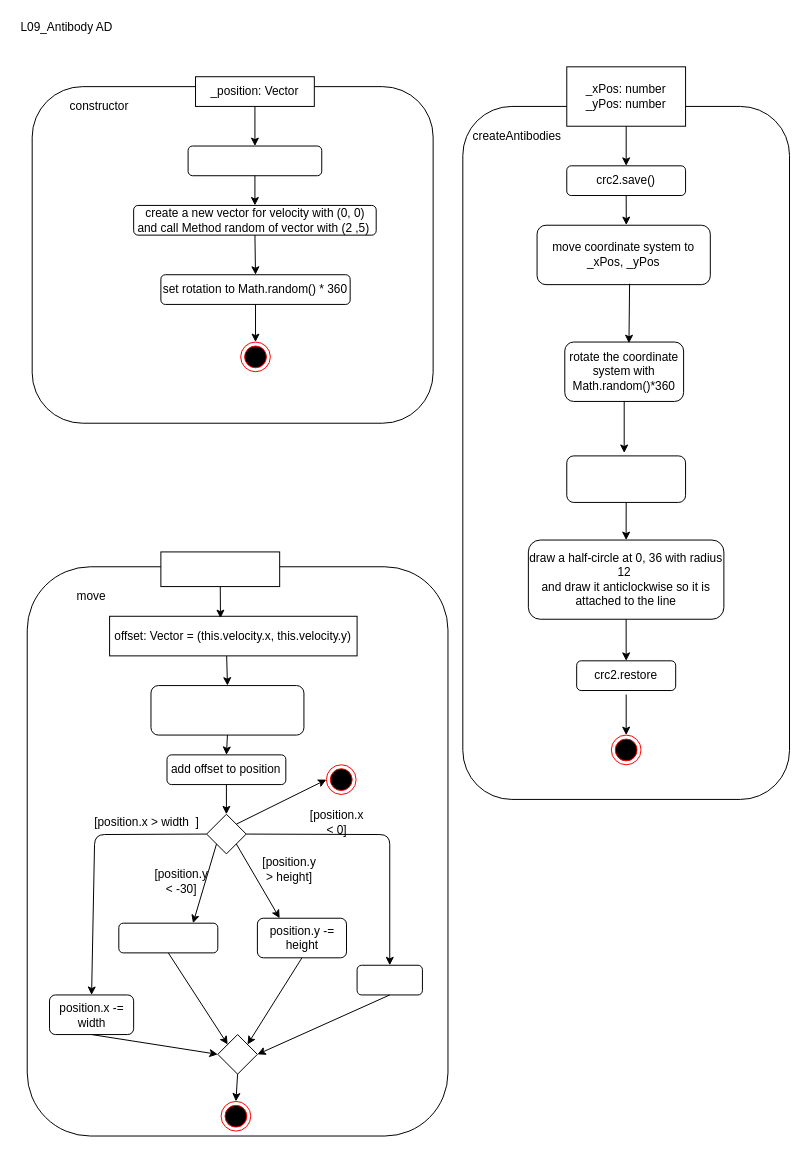
Image size: 807x1153. Some labels were removed from this diagram. Here are the shapes that lost their labels. From the top down, the box of each, then its label:
(187, 145, 322, 176): set position to _position
(566, 455, 686, 502): draw a dark blue line fom 0, 0 to 0, 24
(160, 551, 280, 587): _timeslice: number
(150, 685, 304, 735): offset.x *= 0; offset.y *= _timeslice * 1.5
(118, 922, 218, 953): position.y += height
(356, 964, 422, 995): positon.x += width
